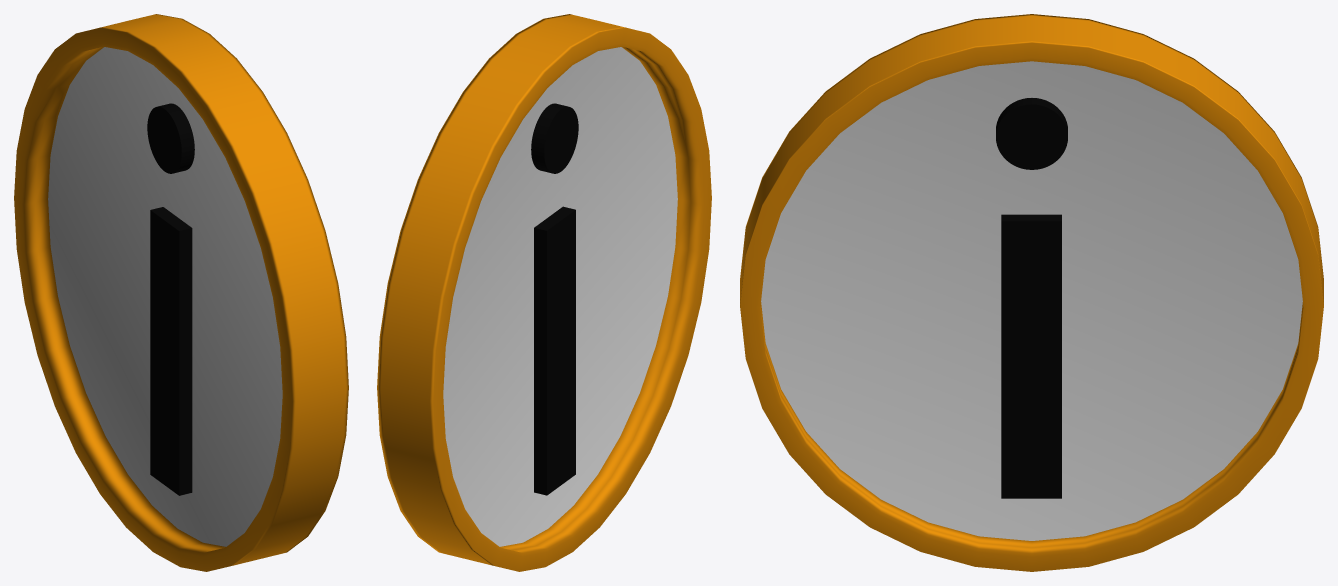
Rendered from info.fbx.
3 views of the same model, side by side, from view 1: azimuth 30°, elevation 25°; view 2: azimuth 150°, elevation 25°; view 3: azimuth 270°, elevation 25° (orthographic). The views are drawn at different scales.
Parts seen in each view (by area): view 1: Cylinder, Text; view 2: Cylinder, Text; view 3: Cylinder, Text.
Boxes of the visible parts, <box> form: Cylinder: <box>14,14,348,571</box>; Text: <box>147,103,194,495</box>; Cylinder: <box>377,14,711,571</box>; Text: <box>531,103,578,495</box>; Cylinder: <box>740,14,1323,571</box>; Text: <box>996,98,1067,498</box>.
Bounding box in the file's own units: 14.75 × 126 × 126.
